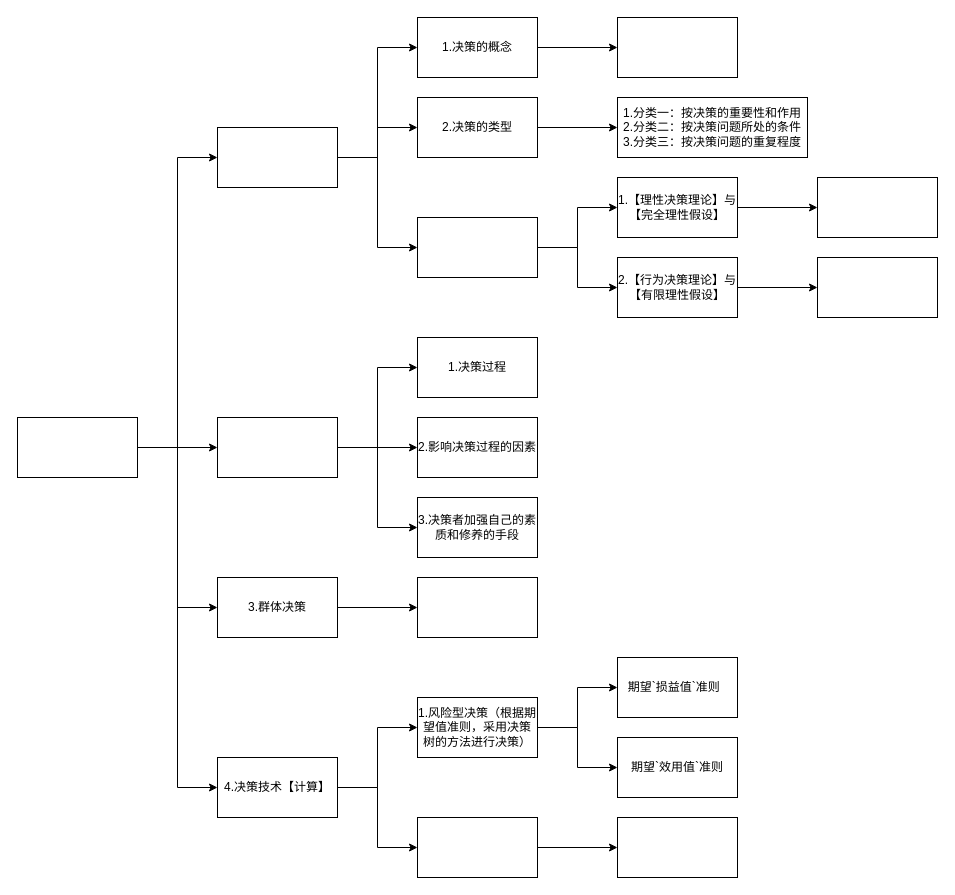
This 955x895 diagram has some shape labels left out. The shapes that lost their labels are listed below. From the top down, each one's centre as x and y in pixels, then its label:
At (x=677, y=47): "1.定义 2.内涵".
At (x=277, y=157): "1.决策概论".
At (x=477, y=247): "3.关于理性的假设".
At (x=77, y=447): "决策".
At (x=277, y=447): "2.决策的过程".
At (x=477, y=607): "1.群体的行为因素 2.群体决策的特点 3.群体决策的优点 4.群体决策的缺点 5.群体决策&个体决策 6.群体决策的扬长避短".
At (x=477, y=847): "2.不确定型决策".
